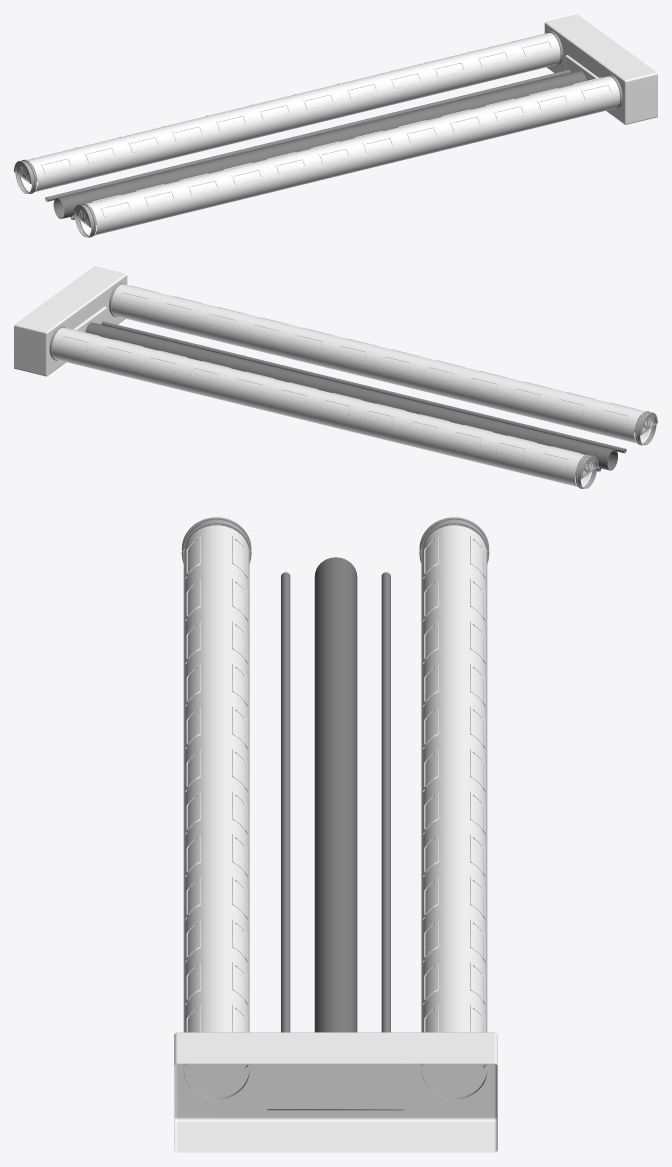
File: access Bridge.fbx
3 renders of one model, top to bottom at view 1: azimuth 30°, elevation 25°; view 2: azimuth 150°, elevation 25°; view 3: azimuth 270°, elevation 25°, orthographic. The views are drawn at different scales.
Visible parts, largest first — view 1: lss_bridge_27936.Shape, lss_bridge_end_caps_2576.Shape, lss_bridge_rim_locks_3110.Shape; view 2: lss_bridge_27936.Shape, lss_bridge_end_caps_2576.Shape, lss_bridge_rim_locks_3110.Shape; view 3: lss_bridge_27936.Shape, lss_bridge_end_caps_2576.Shape, lss_bridge_rim_locks_3110.Shape.
Part boxes in pixels (<box>): lss_bridge_27936.Shape: <box>22,32,620,235</box>; lss_bridge_end_caps_2576.Shape: <box>544,14,657,124</box>; lss_bridge_rim_locks_3110.Shape: <box>14,159,96,237</box>; lss_bridge_27936.Shape: <box>52,284,649,486</box>; lss_bridge_end_caps_2576.Shape: <box>14,266,127,376</box>; lss_bridge_rim_locks_3110.Shape: <box>575,411,657,488</box>; lss_bridge_27936.Shape: <box>183,525,487,1032</box>; lss_bridge_end_caps_2576.Shape: <box>174,1032,497,1152</box>; lss_bridge_rim_locks_3110.Shape: <box>181,517,489,563</box>.
Size of the model in its own units: 10647 by 803 by 2640.
10 materials, 4 textured.
